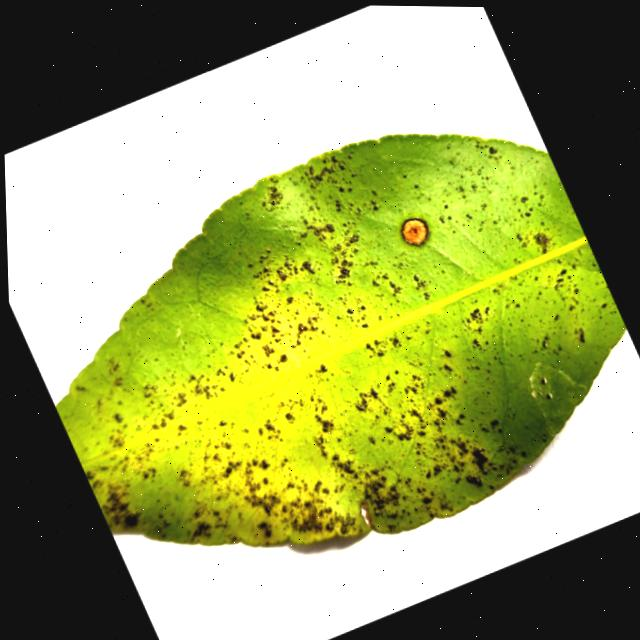melanose: (56, 134, 625, 546)
